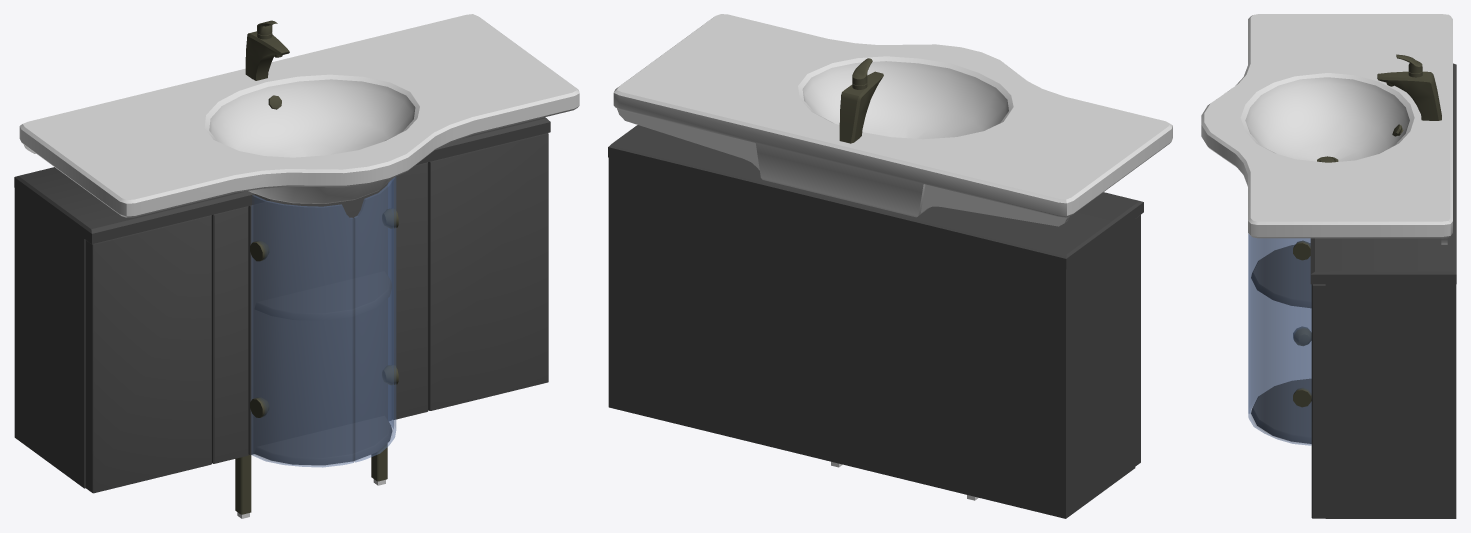
The model's file is KOHLER17517T.FBX.
The picture shows the model from 3 angles, left to right: view 1: azimuth 30°, elevation 25°; view 2: azimuth 150°, elevation 25°; view 3: azimuth 270°, elevation 25°; orthographic projection. The views are drawn at different scales.
Visible parts, largest first — view 1: KOHLER17517T; view 2: KOHLER17517T; view 3: KOHLER17517T.
Boxes of the visible parts, x1=… form: KOHLER17517T: x1=14, y1=14, x2=579, y2=518; KOHLER17517T: x1=608, y1=14, x2=1172, y2=518; KOHLER17517T: x1=1201, y1=14, x2=1456, y2=518.
Size of the model in its own units: 102 by 52.44 by 95.85.
